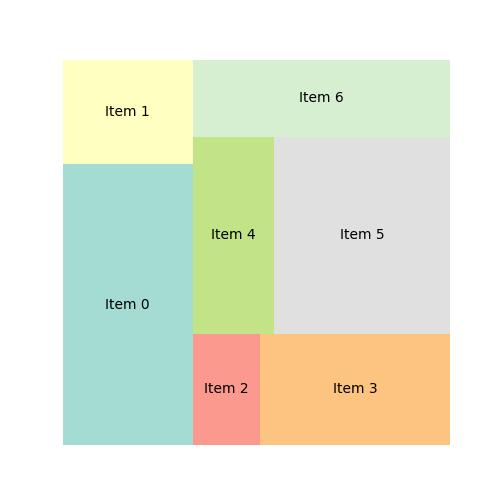rectangle: (64, 164, 194, 444), (273, 136, 451, 336), (261, 333, 449, 445), (191, 57, 451, 137), (194, 136, 274, 334), (62, 58, 193, 165), (192, 335, 262, 446)
